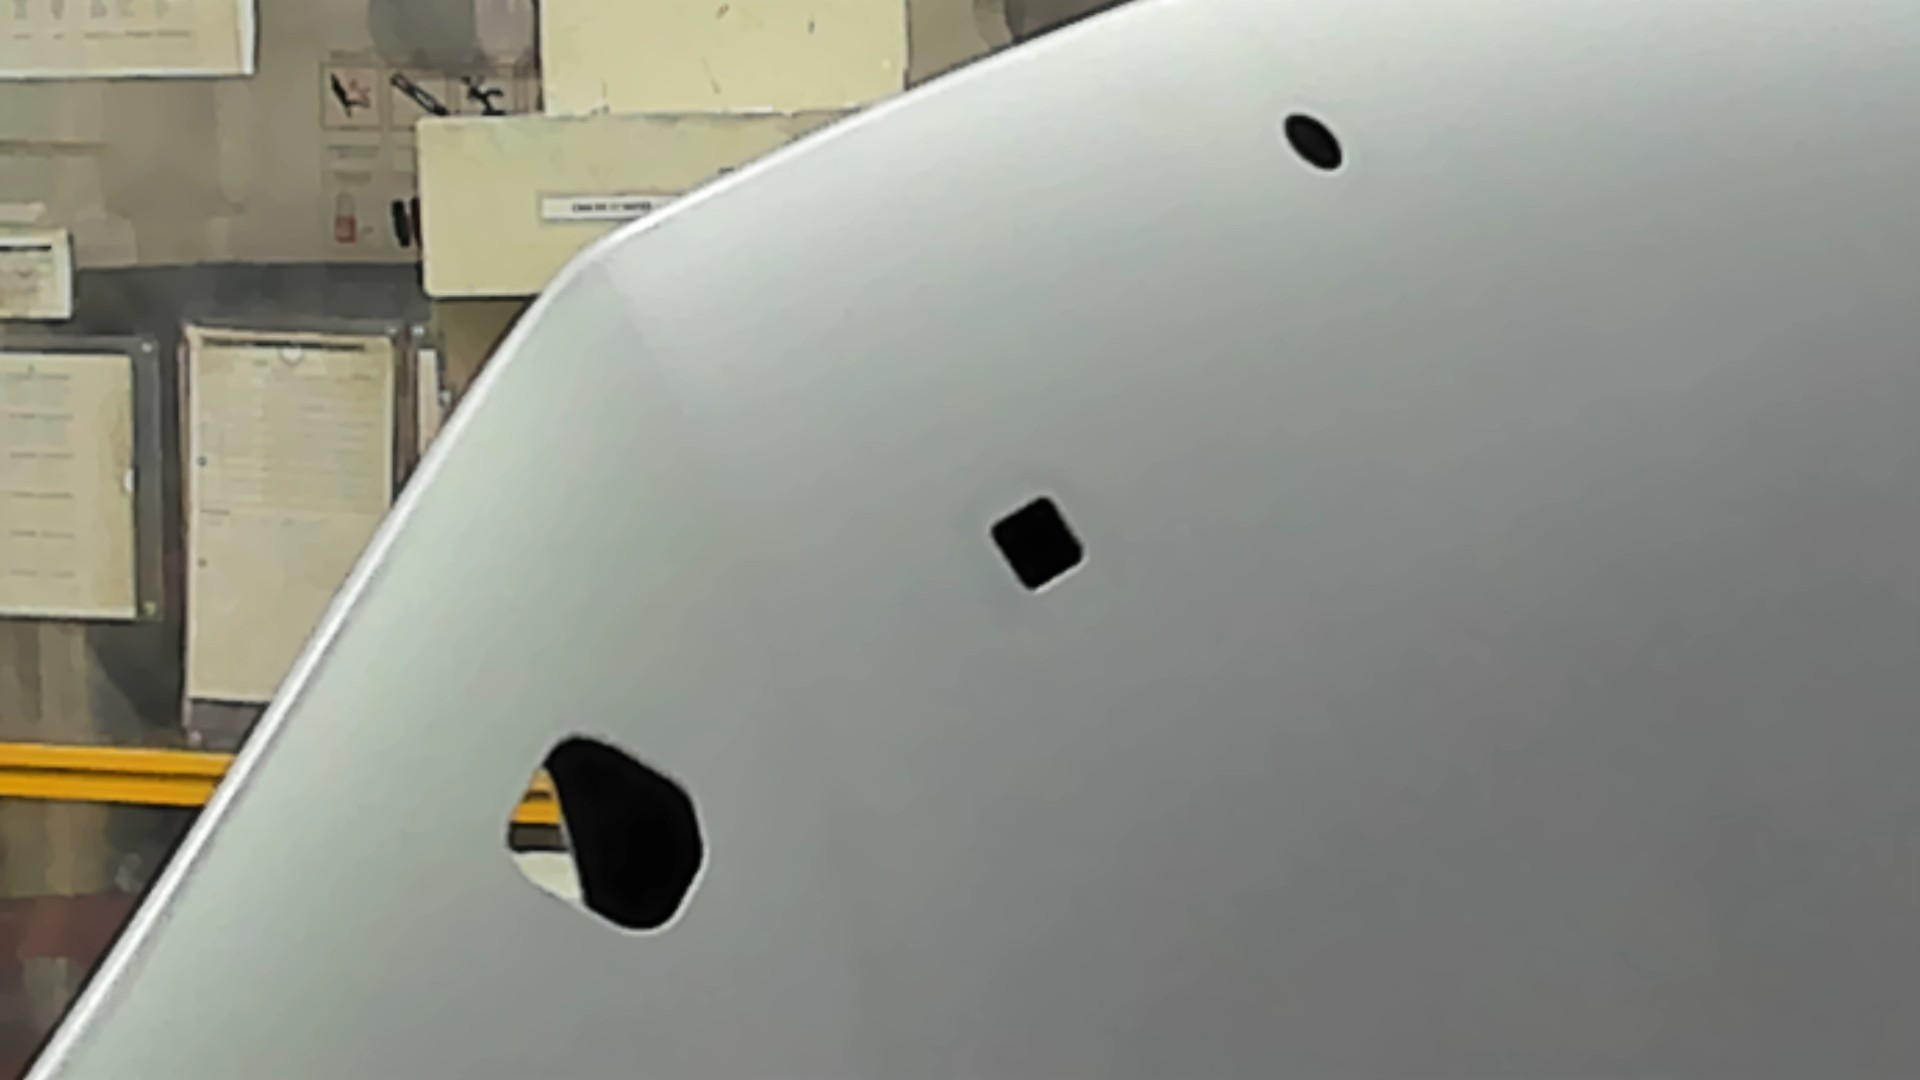chico: (1276, 109, 1345, 173)
grande: (498, 728, 708, 938)
mediano: (986, 493, 1091, 593)
